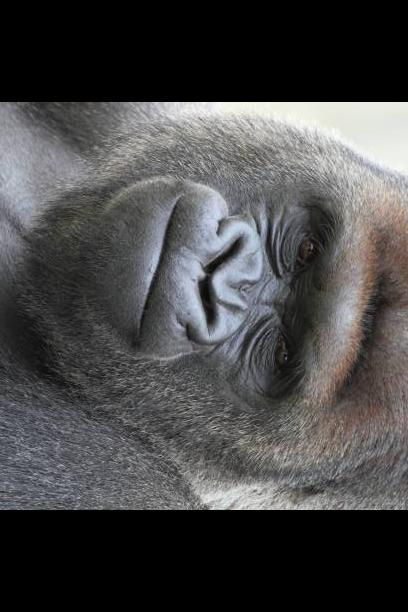gorille_Autres: (0, 112, 408, 510)
